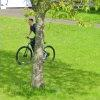bicycles: (15, 33, 56, 68)
